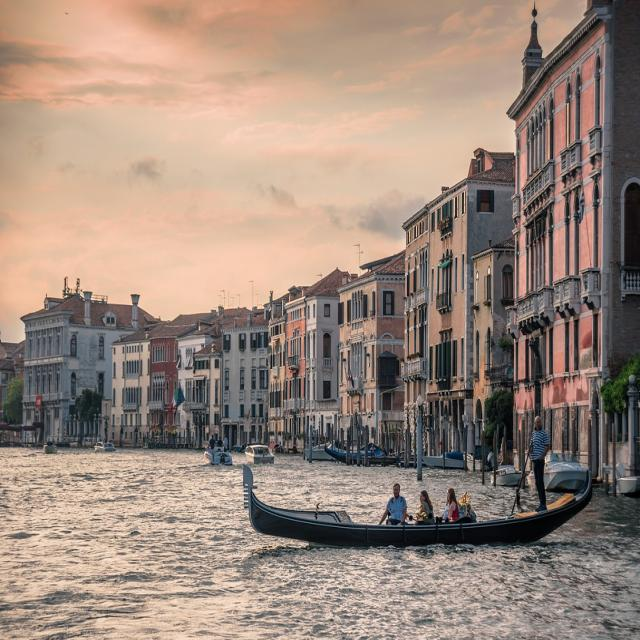boat: (240, 436, 598, 570)
